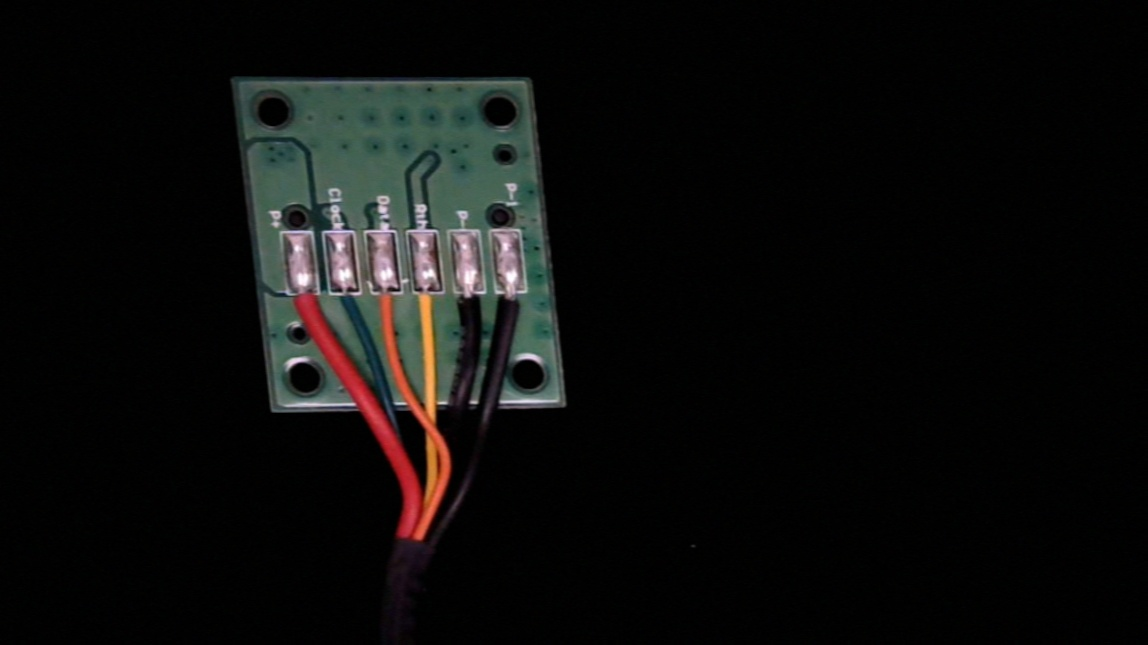Black: (451, 281, 492, 350)
Black1: (492, 280, 534, 345)
Green: (329, 282, 370, 339)
Orange: (368, 280, 409, 341)
Red: (286, 280, 329, 343)
Yellow: (409, 280, 450, 346)
